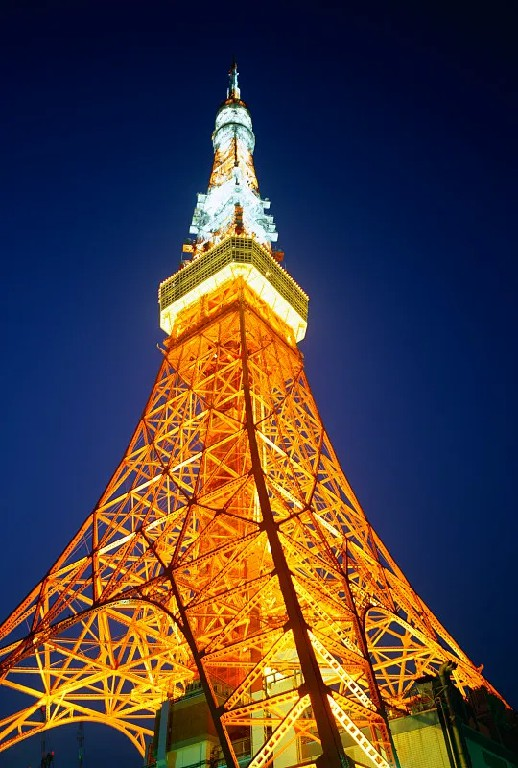Tokyo: (1, 59, 518, 768)
